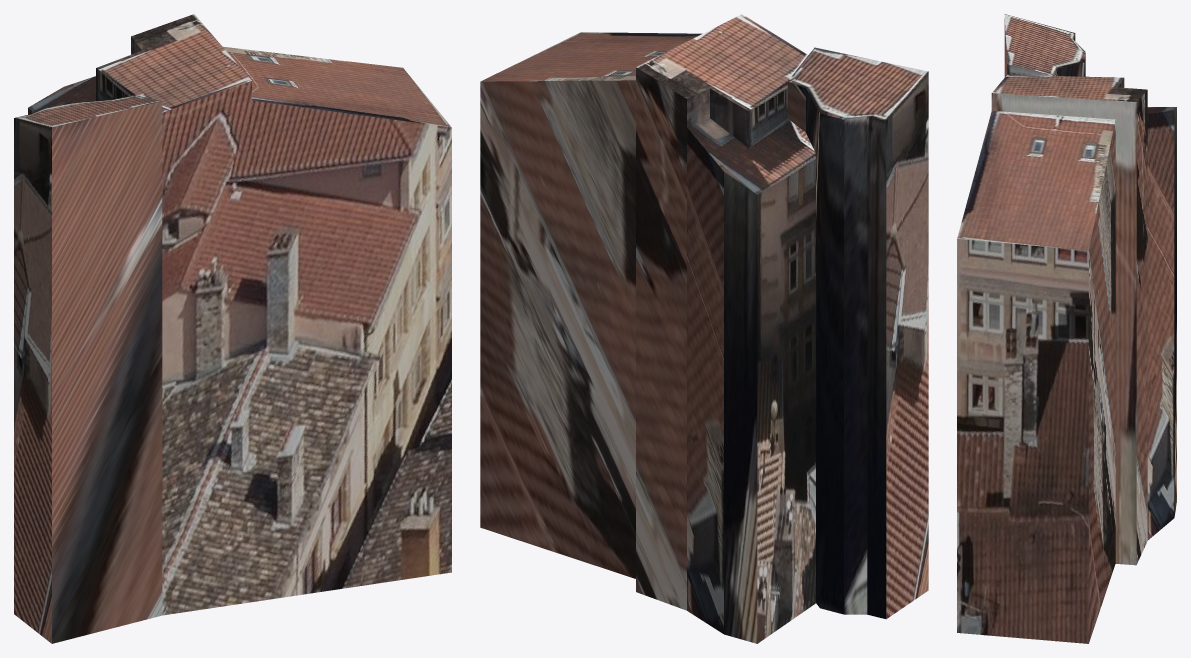
3 renders of one model, left to right at view 1: azimuth 30°, elevation 25°; view 2: azimuth 150°, elevation 25°; view 3: azimuth 270°, elevation 25°, orthographic. The views are drawn at different scales.
Parts seen in each view (by area): view 1: Z_UP; view 2: Z_UP; view 3: Z_UP.
Part boxes in pixels (x1,y1,x2,y2): Z_UP: (14,14,451,643); Z_UP: (480,14,928,643); Z_UP: (957,14,1176,643).
Size of the model in its own units: 18.32 by 22.94 by 9.87.
Materials: 2 (1 with a texture image).
